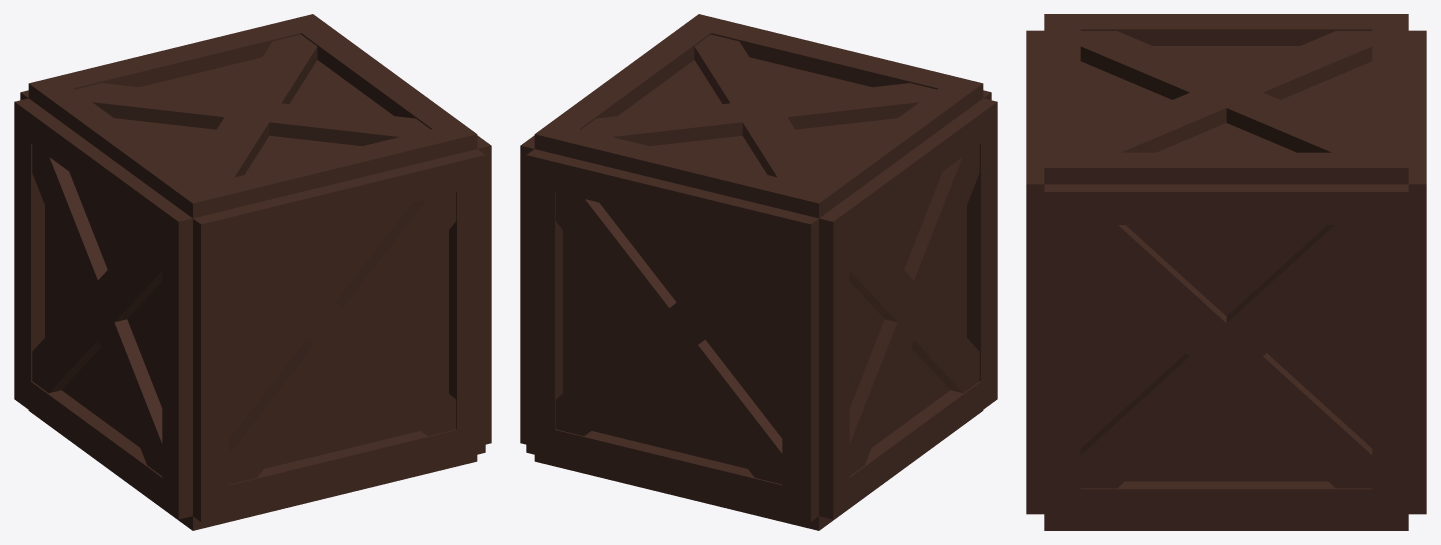
The model's file is Crate.fbx.
3 views of the same model, side by side, from view 1: azimuth 30°, elevation 25°; view 2: azimuth 150°, elevation 25°; view 3: azimuth 270°, elevation 25° (orthographic). The views are drawn at different scales.
Parts seen in each view (by area): view 1: Crate X; view 2: Crate X; view 3: Crate X.
Part boxes in pixels (x1,y1,x2,y2): Crate X: (14, 14, 491, 530); Crate X: (520, 14, 997, 530); Crate X: (1026, 14, 1426, 530).
Bounding box in the file's own units: 30.16 × 30.16 × 30.16.
